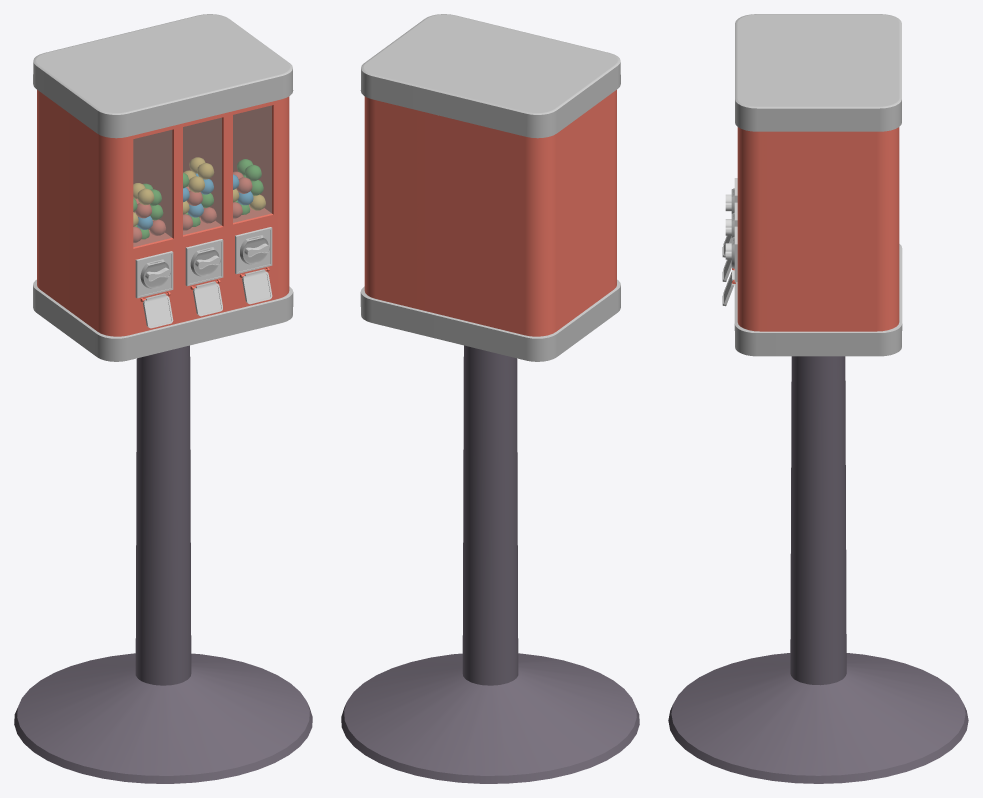
Rendered from Candy_Machine_03.fbx.
3 views of the same model, side by side, from view 1: azimuth 30°, elevation 25°; view 2: azimuth 150°, elevation 25°; view 3: azimuth 270°, elevation 25° (orthographic).
Parts seen in each view (by area): view 1: polySurface74; view 2: polySurface74; view 3: polySurface74.
Part boxes in pixels (x1,y1,x2,y2): polySurface74: [14, 14, 312, 783]; polySurface74: [341, 14, 639, 783]; polySurface74: [668, 14, 968, 783].
Size of the model in its own units: 33.92 by 82.22 by 33.92.
2 materials, 1 textured.
